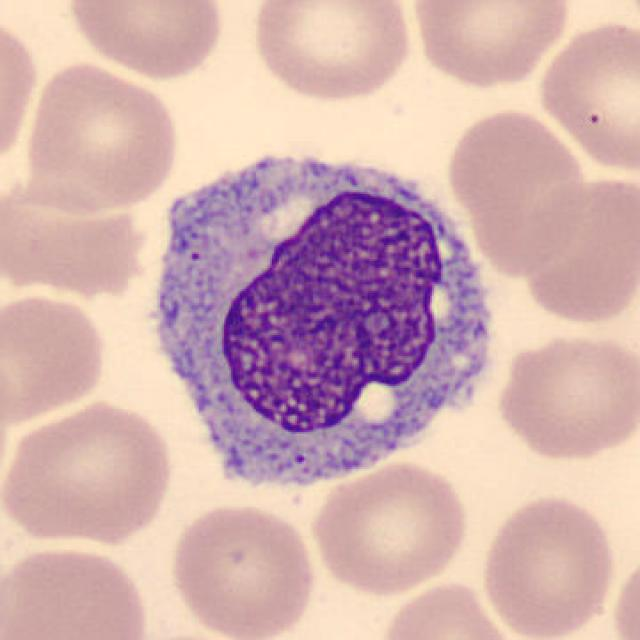Monocyte: (126, 130, 510, 506)
RBC: (0, 396, 178, 546), (18, 58, 183, 217), (443, 102, 590, 274), (307, 457, 473, 598), (476, 490, 620, 640), (165, 500, 319, 640), (517, 166, 640, 330), (492, 328, 638, 464), (247, 0, 416, 106), (534, 14, 638, 178), (0, 539, 154, 640), (407, 0, 576, 90), (0, 289, 110, 425), (62, 0, 230, 81), (373, 578, 523, 640), (0, 11, 39, 174), (610, 548, 640, 640)
